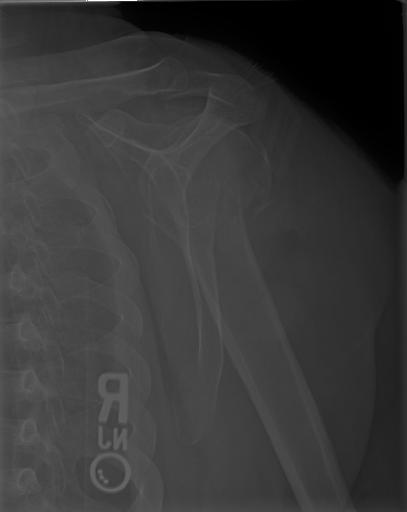shoulder fracture: (181, 275, 271, 409)
